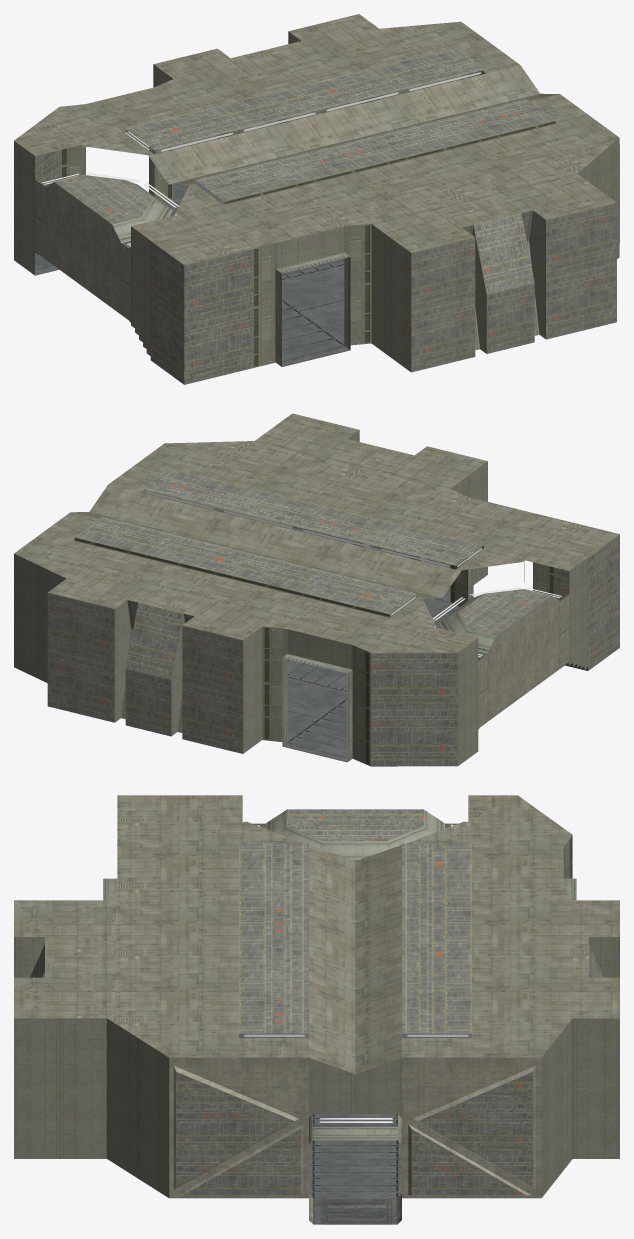
File: thm_tato_fallen_star_r2_cafe_mesh_r2.fbx
3 views of the same model, one above another, from view 1: azimuth 30°, elevation 25°; view 2: azimuth 150°, elevation 25°; view 3: azimuth 270°, elevation 25° (orthographic). The views are drawn at different scales.
Parts seen in each view (by area): view 1: mesh_node; view 2: mesh_node; view 3: mesh_node.
Boxes of the visible parts, x1,y1,x2,y2 form: mesh_node: (14,14,619,384); mesh_node: (14,413,619,766); mesh_node: (14,795,619,1224).
Size of the model in its own units: 22 by 5.15 by 19.52.
